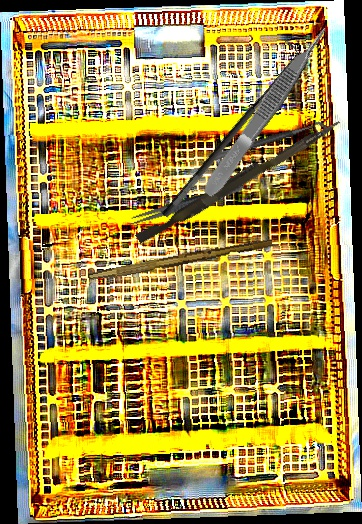Dressing Forceps: (126, 180, 246, 229)
Fixation Ring: (208, 119, 329, 172)
Hook Surgical: (148, 37, 309, 221)
Pusher: (135, 111, 342, 250)
Scalpel Handle: (87, 234, 274, 287)
Tissue Forceps: (198, 23, 335, 200)
